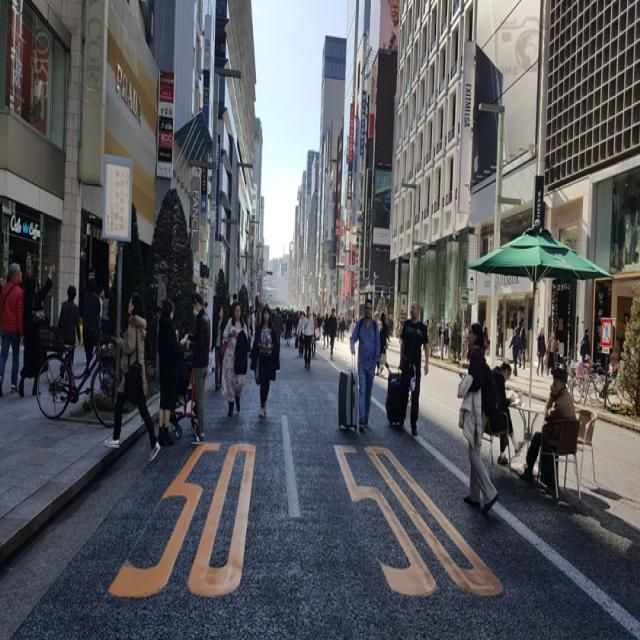body: (102, 290, 162, 466), (456, 320, 501, 516), (518, 364, 578, 494), (232, 288, 342, 348), (16, 260, 56, 400), (156, 296, 191, 448), (480, 360, 526, 468), (349, 298, 382, 436), (397, 299, 430, 437), (184, 289, 211, 446), (217, 299, 250, 419), (248, 300, 281, 418), (0, 260, 25, 399), (56, 283, 82, 368), (80, 275, 101, 380), (613, 196, 640, 274), (384, 316, 429, 352), (210, 303, 227, 392), (378, 308, 394, 382), (301, 304, 315, 371), (542, 329, 560, 377), (372, 310, 384, 379), (508, 325, 524, 376), (95, 281, 107, 345), (327, 306, 339, 360), (535, 325, 547, 379), (81, 266, 100, 296), (100, 287, 111, 337), (517, 324, 528, 370), (296, 310, 306, 358), (494, 321, 506, 361), (320, 311, 330, 349), (344, 314, 358, 340), (347, 318, 358, 350), (516, 321, 524, 365), (462, 322, 469, 360), (442, 322, 449, 359), (482, 324, 489, 358), (339, 314, 346, 344), (446, 321, 452, 356), (436, 324, 442, 351), (334, 315, 340, 341), (583, 327, 590, 345)
